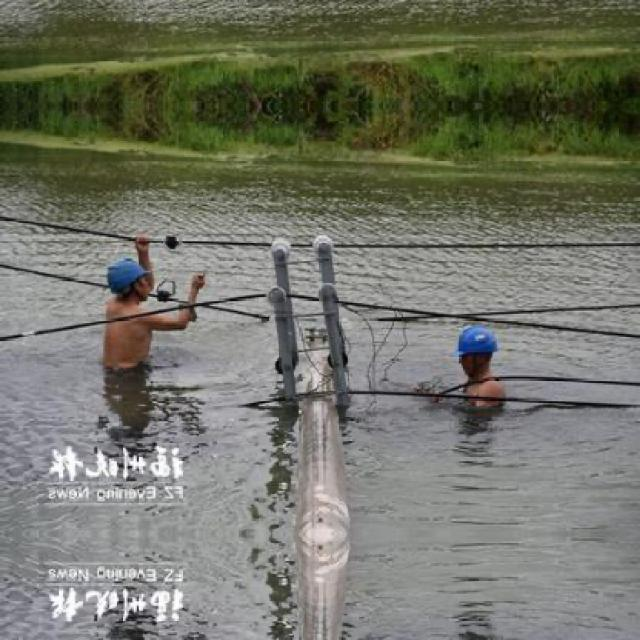2: (83, 244, 205, 378), (446, 323, 514, 417)
helmet: (454, 320, 500, 378), (112, 255, 152, 300)
